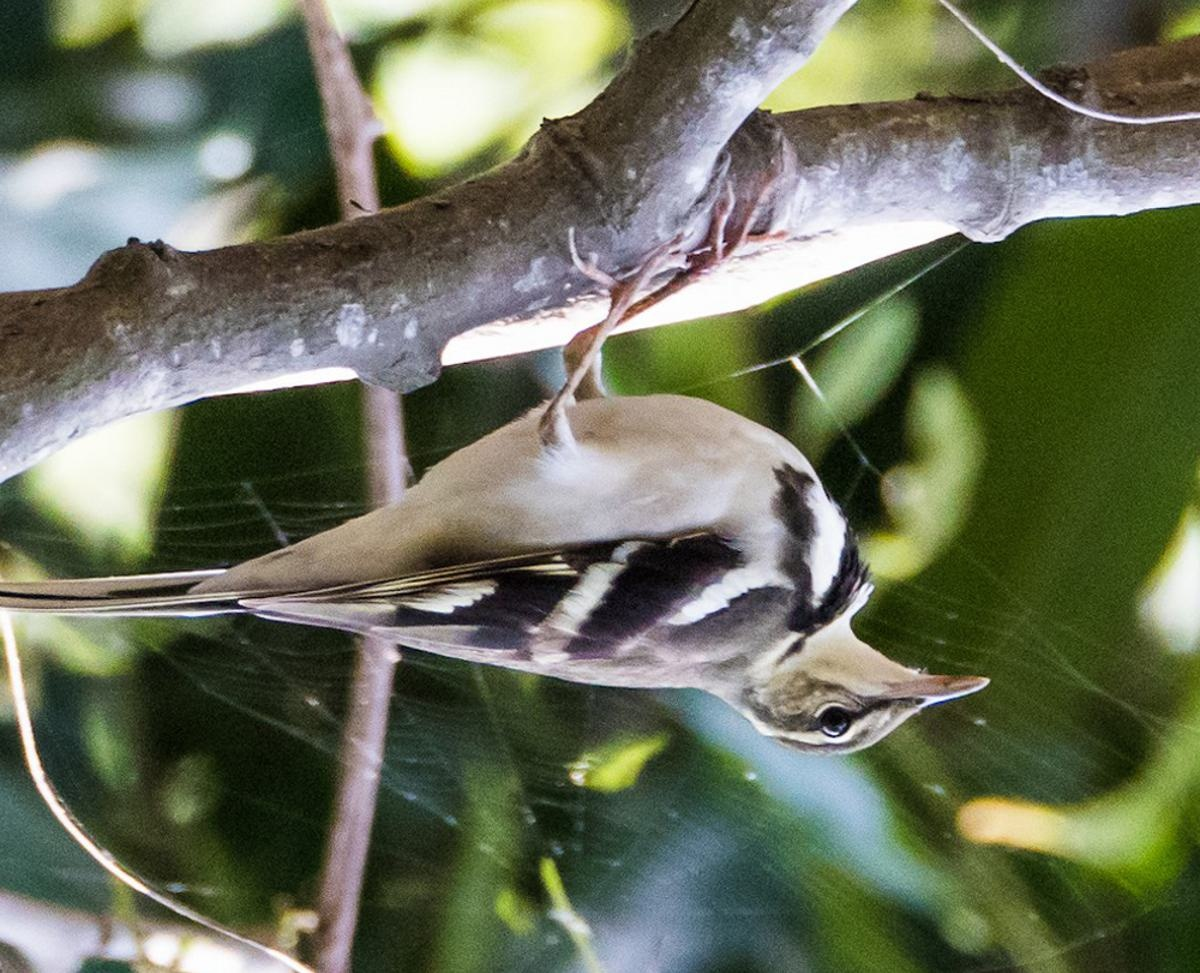wagtail: (189, 350, 990, 750)
